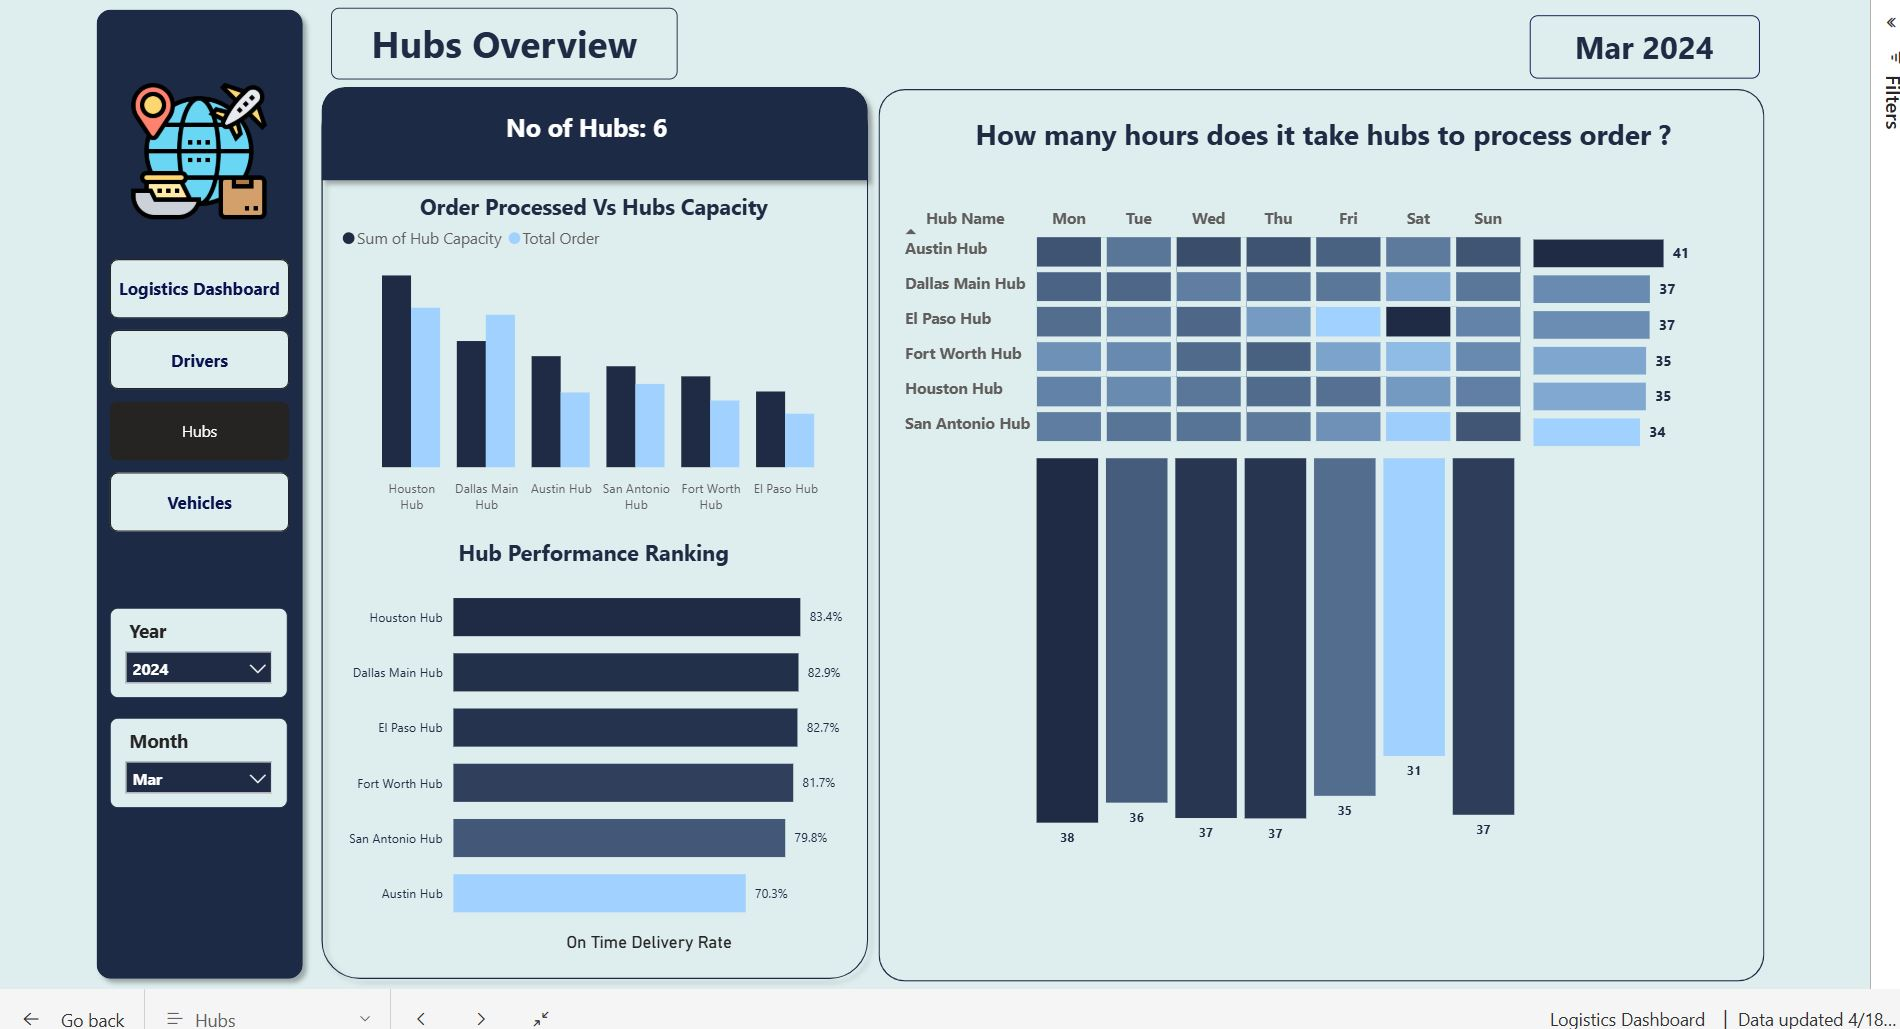

The dashboard page shown, as its layout file describes it:
{"tool":"powerbi","page":{"name":"Hubs","canvas":[1450,850],"ordinal":2},"visuals":[{"type":"shape","box":[0,0,195.1,850.3],"z":0},{"type":"textbox","box":[210.8,7.1,297.7,61.2],"z":1000},{"type":"shape","box":[193.2,67.8,487.3,782.8],"z":2000},{"type":"shape","box":[193.7,66.9,487.1,98.3],"z":3000},{"type":"shape","box":[680.8,76.9,760.6,766.3],"z":4000},{"type":"clusteredBarChart","title":"Hub Performance Ranking","fields":{"Category":["Orders.Hub Name"],"Y":["Orders.On Time Delivery Rate"]},"box":[214.8,462.4,442.4,360.8],"z":5000},{"type":"textbox","box":[720.7,99.7,682.2,38.5],"z":6000},{"type":"cardVisual","fields":{"Data":["Hubs.No of Hubs"]},"box":[360.3,82.6,152.4,47],"z":7000},{"type":"pivotTable","fields":{"Rows":["Hubs.HubName"],"Columns":["DATE.Day"],"Values":["Orders.AVG Delivery Time (Hrs)"]},"box":[692.9,168.9,549.8,279.2],"z":8000},{"type":"columnChart","fields":{"Category":["DATE.Day"],"Y":["Orders.AVG Delivery Time (Hrs)"]},"box":[811.8,385.1,420.9,349.3],"z":9000},{"type":"barChart","fields":{"Category":["Hubs.Hub Name"],"Y":["Orders.AVG Delivery Time (Hrs)"]},"box":[1242.7,199,207.6,186.1],"z":10000},{"type":"image","box":[28.6,65.9,136,130.3],"z":13000},{"type":"pageNavigator","box":[20,223.3,154.6,236.2],"z":14000},{"type":"cardVisual","fields":{"Data":["DATE.Year Month Value"]},"box":[1239.1,14.2,198,54.1],"z":15000},{"type":"lineClusteredColumnComboChart","title":"Order Processed Vs Hubs Capacity","fields":{"Category":["Hubs.HubName"],"Y":["Sum(Hubs.Hub Capacity)","Orders.Total Order"]},"box":[215.1,165.2,442.9,283.4],"z":16000},{"type":"slicer","fields":{"Values":["DATE.Year"]},"box":[20,522.6,153.2,77.3],"z":16001},{"type":"slicer","fields":{"Values":["DATE.Month"]},"box":[20,617.1,153.2,77.3],"z":16002}]}

Visuals, with their boxes on the page's 1450x850 design canvas (x1, y1, x2, y2). These are canvas units, not pixel positions in the 1900x1029 screenshot, which may show the page scaled, cropped or inside an application window:
shape: (left=0, top=0, right=195, bottom=850)
textbox: (left=211, top=7, right=508, bottom=68)
shape: (left=193, top=68, right=680, bottom=851)
shape: (left=194, top=67, right=681, bottom=165)
shape: (left=681, top=77, right=1441, bottom=843)
"Hub Performance Ranking" clusteredBarChart: (left=215, top=462, right=657, bottom=823)
textbox: (left=721, top=100, right=1403, bottom=138)
cardVisual - Hubs.No of Hubs: (left=360, top=83, right=513, bottom=130)
pivotTable - Hubs.HubName x DATE.Day: (left=693, top=169, right=1243, bottom=448)
columnChart - DATE.Day x Orders.AVG Delivery Time (Hrs): (left=812, top=385, right=1233, bottom=734)
barChart - Hubs.Hub Name x Orders.AVG Delivery Time (Hrs): (left=1243, top=199, right=1450, bottom=385)
image: (left=29, top=66, right=165, bottom=196)
pageNavigator: (left=20, top=223, right=175, bottom=460)
cardVisual - DATE.Year Month Value: (left=1239, top=14, right=1437, bottom=68)
"Order Processed Vs Hubs Capacity" lineClusteredColumnComboChart: (left=215, top=165, right=658, bottom=449)
slicer - DATE.Year: (left=20, top=523, right=173, bottom=600)
slicer - DATE.Month: (left=20, top=617, right=173, bottom=694)
